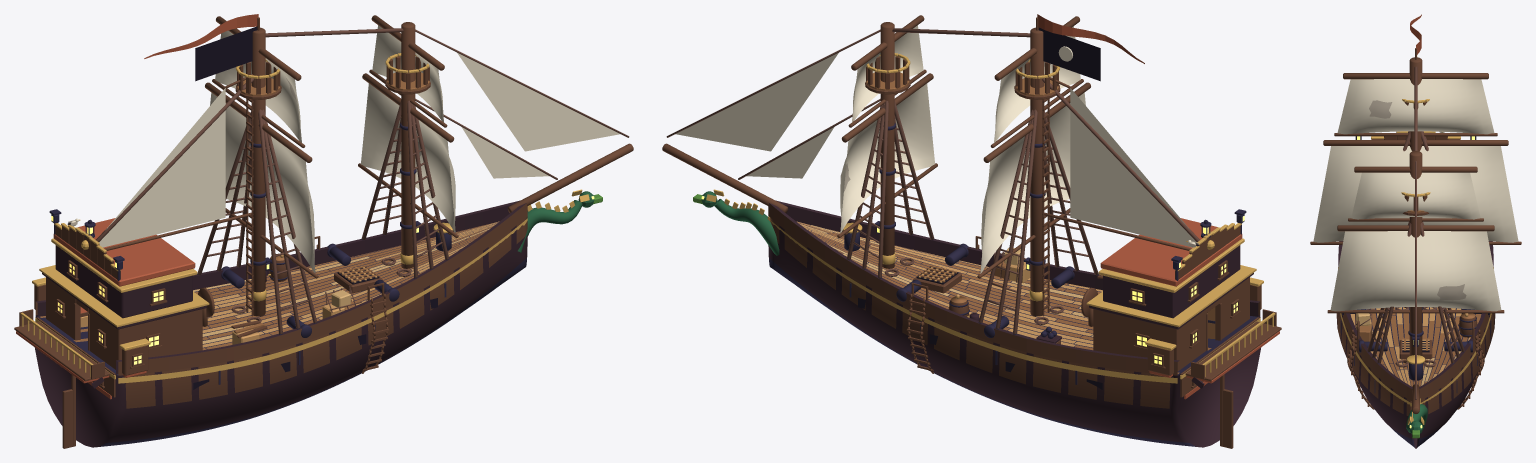
The model's file is brigantin.glb.
3 renders of one model, left to right at view 1: azimuth 30°, elevation 25°; view 2: azimuth 150°, elevation 25°; view 3: azimuth 270°, elevation 25°, orthographic. The views are drawn at different scales.
Visible parts, largest first — view 1: hull, sail_z896_spanker, deck, sail_z827_jibavant, rail_out, sail_z739, sail_z661, deck_gaps, cut_roof, cut_up1, mast.001, rail_in.001 (+31 smaller); view 2: hull, deck, sail_z896_spanker, sail_z827_jibavant, rail_out.001, sail_z739, sail_z661, deck_gaps, cut_roof, cut_up1, mast.001, rail_in (+31 smaller); view 3: sail_z661, sail_z739, sail_z1008, sail_z896, hull, deck, yard_z739, mast, yard_z661, deck_gaps, yard_z1008, rail_out (+20 smaller).
Part boxes in pixels (<box>): hull: <box>34,216,527,447</box>; sail_z896_spanker: <box>99,88,225,247</box>; deck: <box>40,221,499,350</box>; sail_z827_jibavant: <box>457,52,620,151</box>; rail_out: <box>118,203,527,375</box>; sail_z739: <box>210,92,315,273</box>; sail_z661: <box>361,83,455,232</box>; deck_gaps: <box>37,222,498,375</box>; cut_roof: <box>53,218,195,286</box>; cut_up1: <box>55,245,192,318</box>; mast.001: <box>251,27,265,316</box>; rail_in.001: <box>37,204,512,316</box>; hull: <box>768,218,1261,447</box>; deck: <box>797,221,1211,373</box>; sail_z896_spanker: <box>1070,88,1196,246</box>; sail_z827_jibavant: <box>675,52,838,151</box>; rail_out.001: <box>768,203,1177,375</box>; sail_z739: <box>980,92,1085,273</box>; sail_z661: <box>840,83,934,233</box>; deck_gaps: <box>800,223,1258,375</box>; cut_roof: <box>1100,218,1242,286</box>; cut_up1: <box>1103,245,1240,318</box>; mast.001: <box>1030,27,1044,316</box>; rail_in: <box>783,204,1258,316</box>; sail_z661: <box>1330,231,1501,311</box>; sail_z739: <box>1313,146,1518,242</box>; sail_z1008: <box>1337,79,1494,134</box>; sail_z896: <box>1351,172,1480,219</box>; hull: <box>1336,313,1495,448</box>; deck: <box>1350,307,1481,386</box>; yard_z739: <box>1323,140,1508,145</box>; mast: <box>1409,151,1422,355</box>; yard_z661: <box>1337,225,1494,231</box>; deck_gaps: <box>1350,307,1481,385</box>; yard_z1008: <box>1343,73,1488,79</box>; rail_out: <box>1342,313,1412,400</box>.
Bounding box in the file's own units: 22.09 × 14.15 × 7.7.
